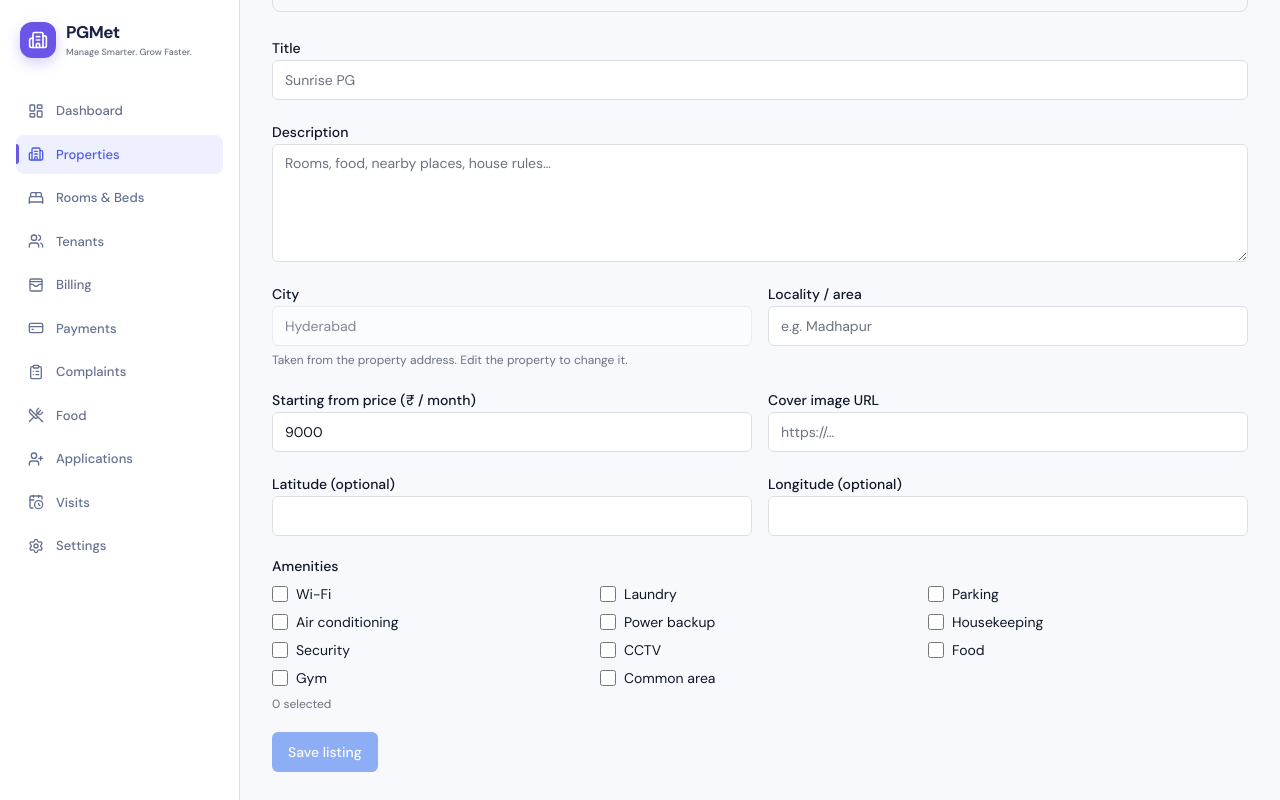
Property → Listing tab › blocks clearing a price the backend cannot clear
The width and height of the screenshot is (1280, 800).
(page scrolled)
Clear the field labelled "Starting from price (₹ / month)" at (512, 432), box [272, 412, 752, 452]
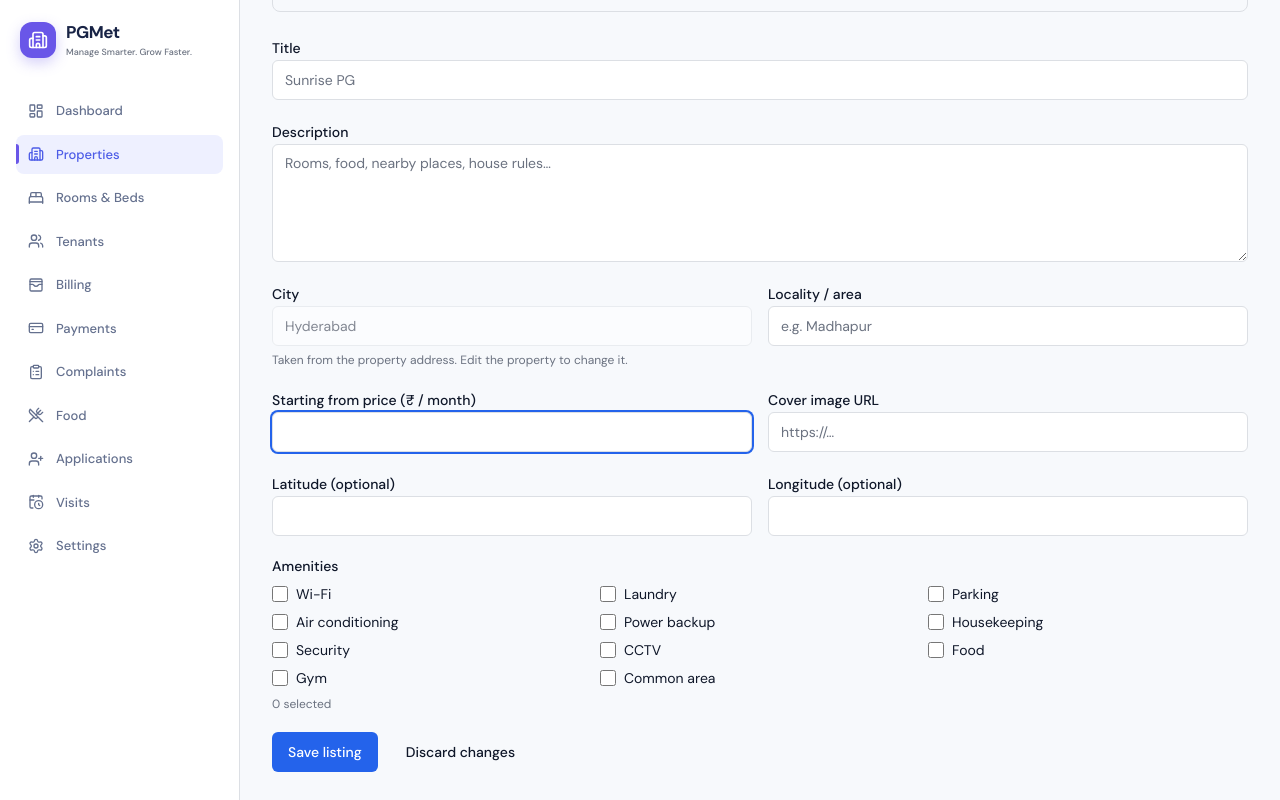
Click the button "Save listing" at (325, 752), box [272, 732, 378, 772]
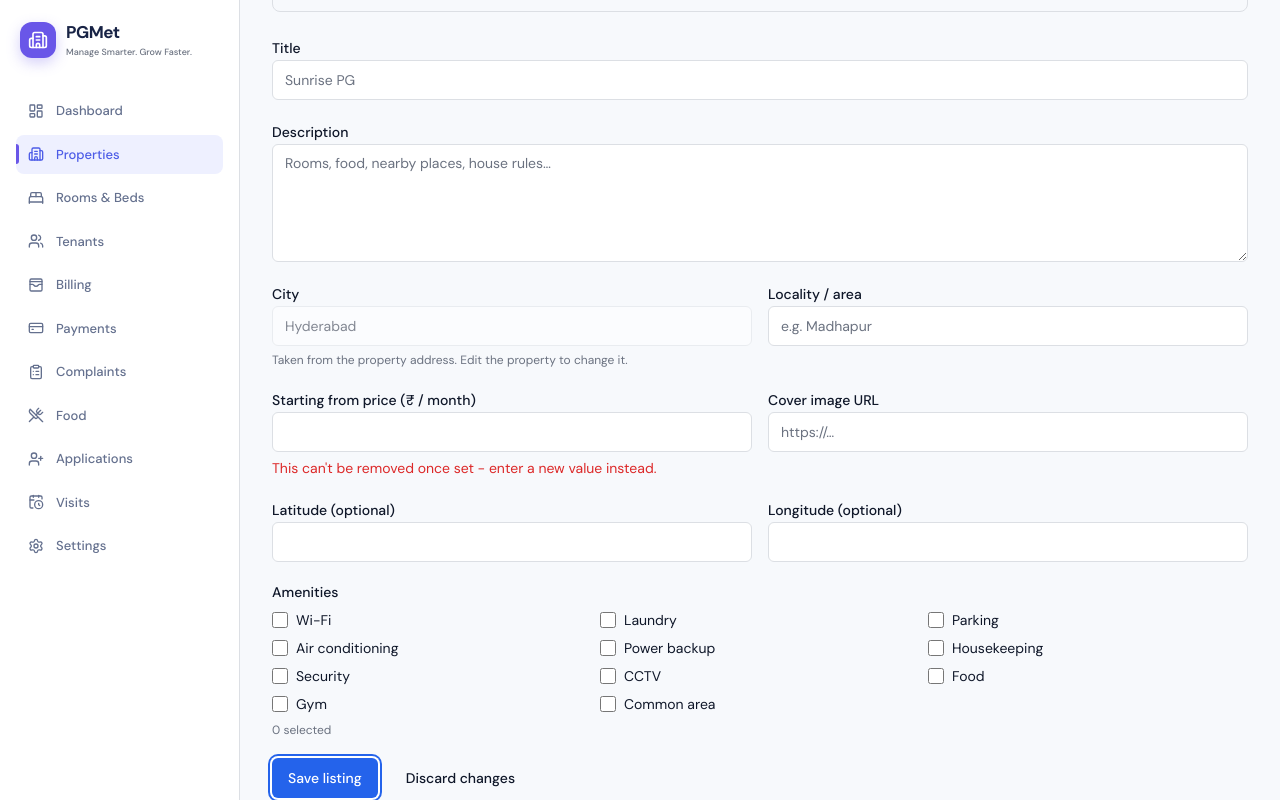
Now the text "This can't be removed once set - enter a new value instead." is shown, box [272, 459, 656, 477]
